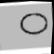no answer: (18, 10, 49, 37)
